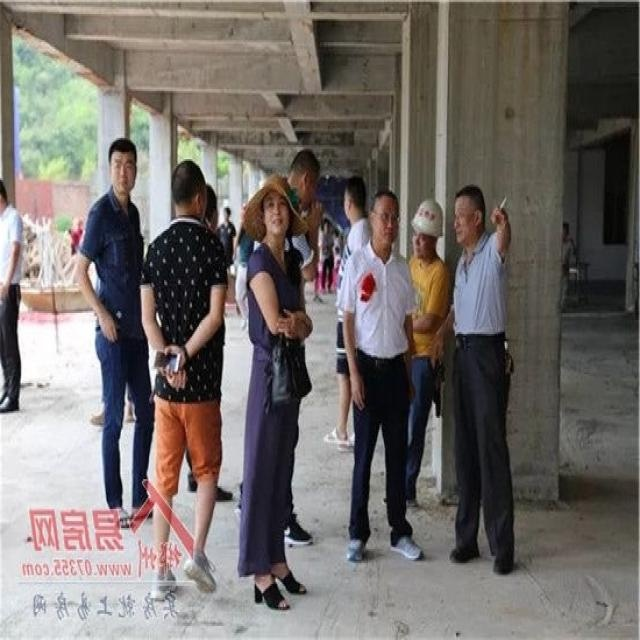Sin_Casco_Mascarrilla: (453, 183, 487, 249), (107, 136, 139, 193), (370, 188, 400, 247)
